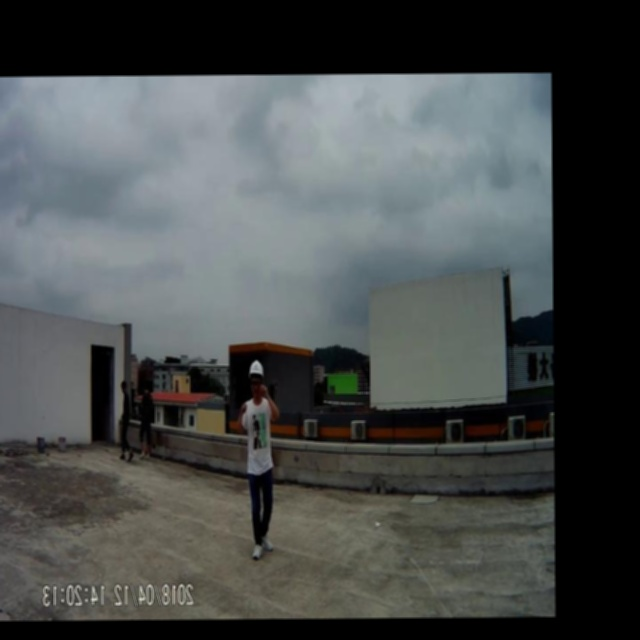Con_Casco: (249, 359, 265, 395)
Sin_Chaleco: (243, 395, 274, 477)
